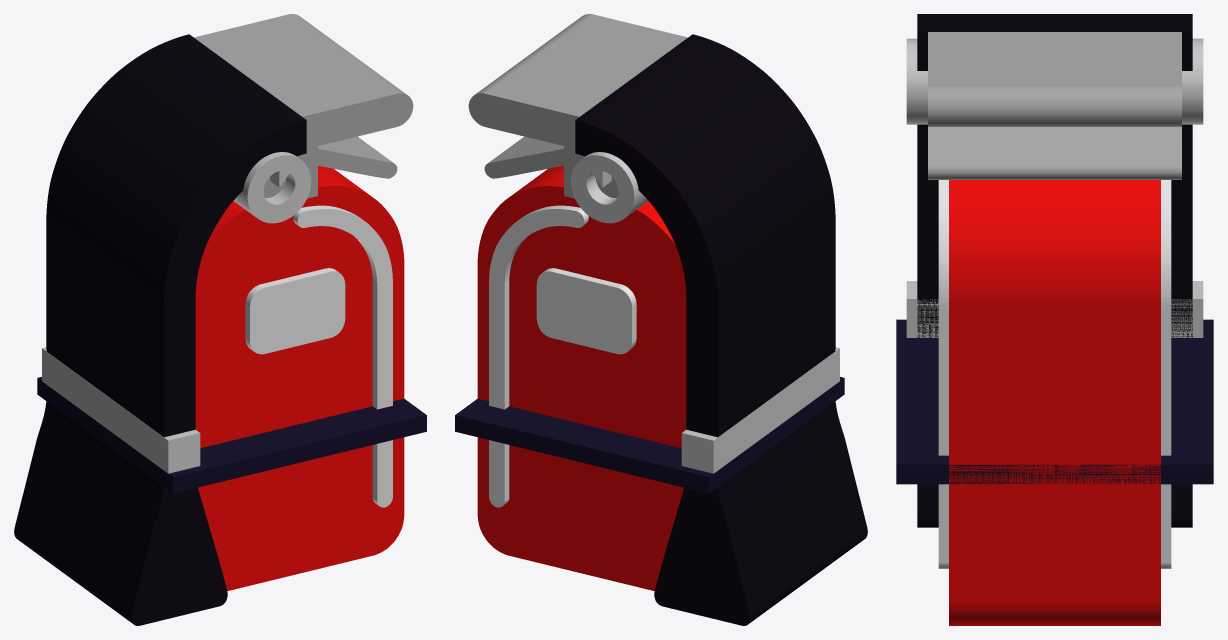
The picture shows the model from 3 angles, left to right: view 1: azimuth 30°, elevation 25°; view 2: azimuth 150°, elevation 25°; view 3: azimuth 270°, elevation 25°; orthographic projection. The views are drawn at different scales.
Parts seen in each view (by area): view 1: U+1F9EF_layer03_obj00, U+1F9EF_layer00_obj00, U+1F9EF_layer02_obj00, U+1F9EF_layer01_obj00, U+1F9EF_layer05_obj00, U+1F9EF_layer04_obj00; view 2: U+1F9EF_layer03_obj00, U+1F9EF_layer00_obj00, U+1F9EF_layer02_obj00, U+1F9EF_layer01_obj00, U+1F9EF_layer05_obj00, U+1F9EF_layer04_obj00; view 3: U+1F9EF_layer00_obj00, U+1F9EF_layer02_obj00, U+1F9EF_layer05_obj00, U+1F9EF_layer03_obj00, U+1F9EF_layer01_obj00, U+1F9EF_layer04_obj00.
Part boxes in pixels (<box>): U+1F9EF_layer03_obj00: <box>14,34,306,625</box>; U+1F9EF_layer00_obj00: <box>195,165,404,590</box>; U+1F9EF_layer02_obj00: <box>194,14,413,198</box>; U+1F9EF_layer01_obj00: <box>245,205,392,507</box>; U+1F9EF_layer05_obj00: <box>37,377,426,493</box>; U+1F9EF_layer04_obj00: <box>42,152,311,473</box>; U+1F9EF_layer03_obj00: <box>575,34,867,625</box>; U+1F9EF_layer00_obj00: <box>477,165,686,590</box>; U+1F9EF_layer02_obj00: <box>468,14,687,198</box>; U+1F9EF_layer01_obj00: <box>489,205,636,507</box>; U+1F9EF_layer05_obj00: <box>455,377,844,493</box>; U+1F9EF_layer04_obj00: <box>570,152,839,473</box>; U+1F9EF_layer00_obj00: <box>949,180,1160,625</box>; U+1F9EF_layer02_obj00: <box>928,32,1181,179</box>; U+1F9EF_layer05_obj00: <box>896,319,1213,484</box>; U+1F9EF_layer03_obj00: <box>917,14,1192,527</box>; U+1F9EF_layer01_obj00: <box>938,180,1171,568</box>; U+1F9EF_layer04_obj00: <box>906,38,1203,337</box>.
Bounding box in the file's own units: 0.3658 × 0.5677 × 0.3.
